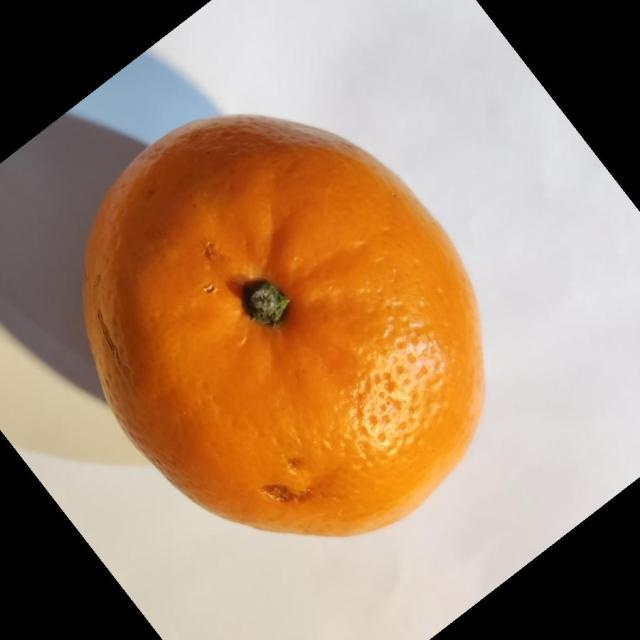agrume: (81, 111, 486, 537)
